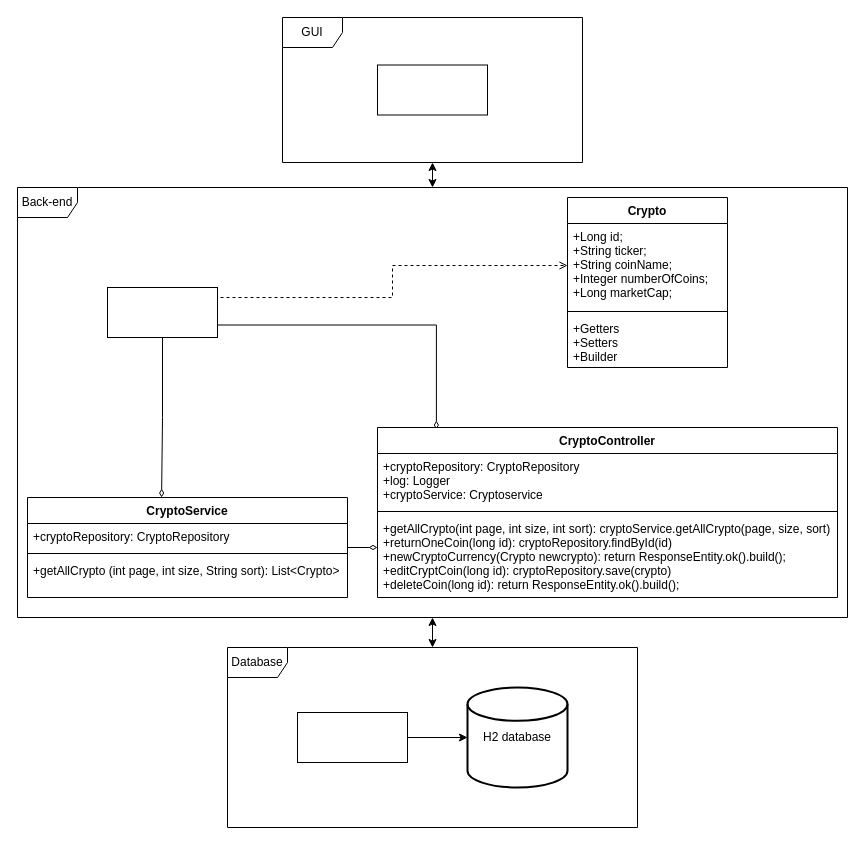
Image size: 865x845. Some labels were removed from this diagram. The shapes that lost their labels are listed below. From the top down, each one's centre as x and y in pixels, then its label:
the point at 432,89: Angular front end
the point at 162,312: «interface» CryptoRepository
the point at 352,737: data.sql
